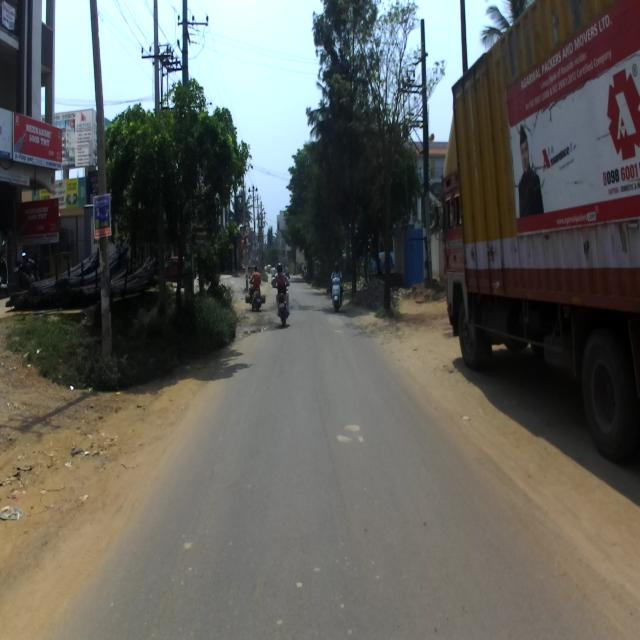tree ahead at: (102, 84, 247, 369)
truck ahead at: (430, 2, 640, 450)
